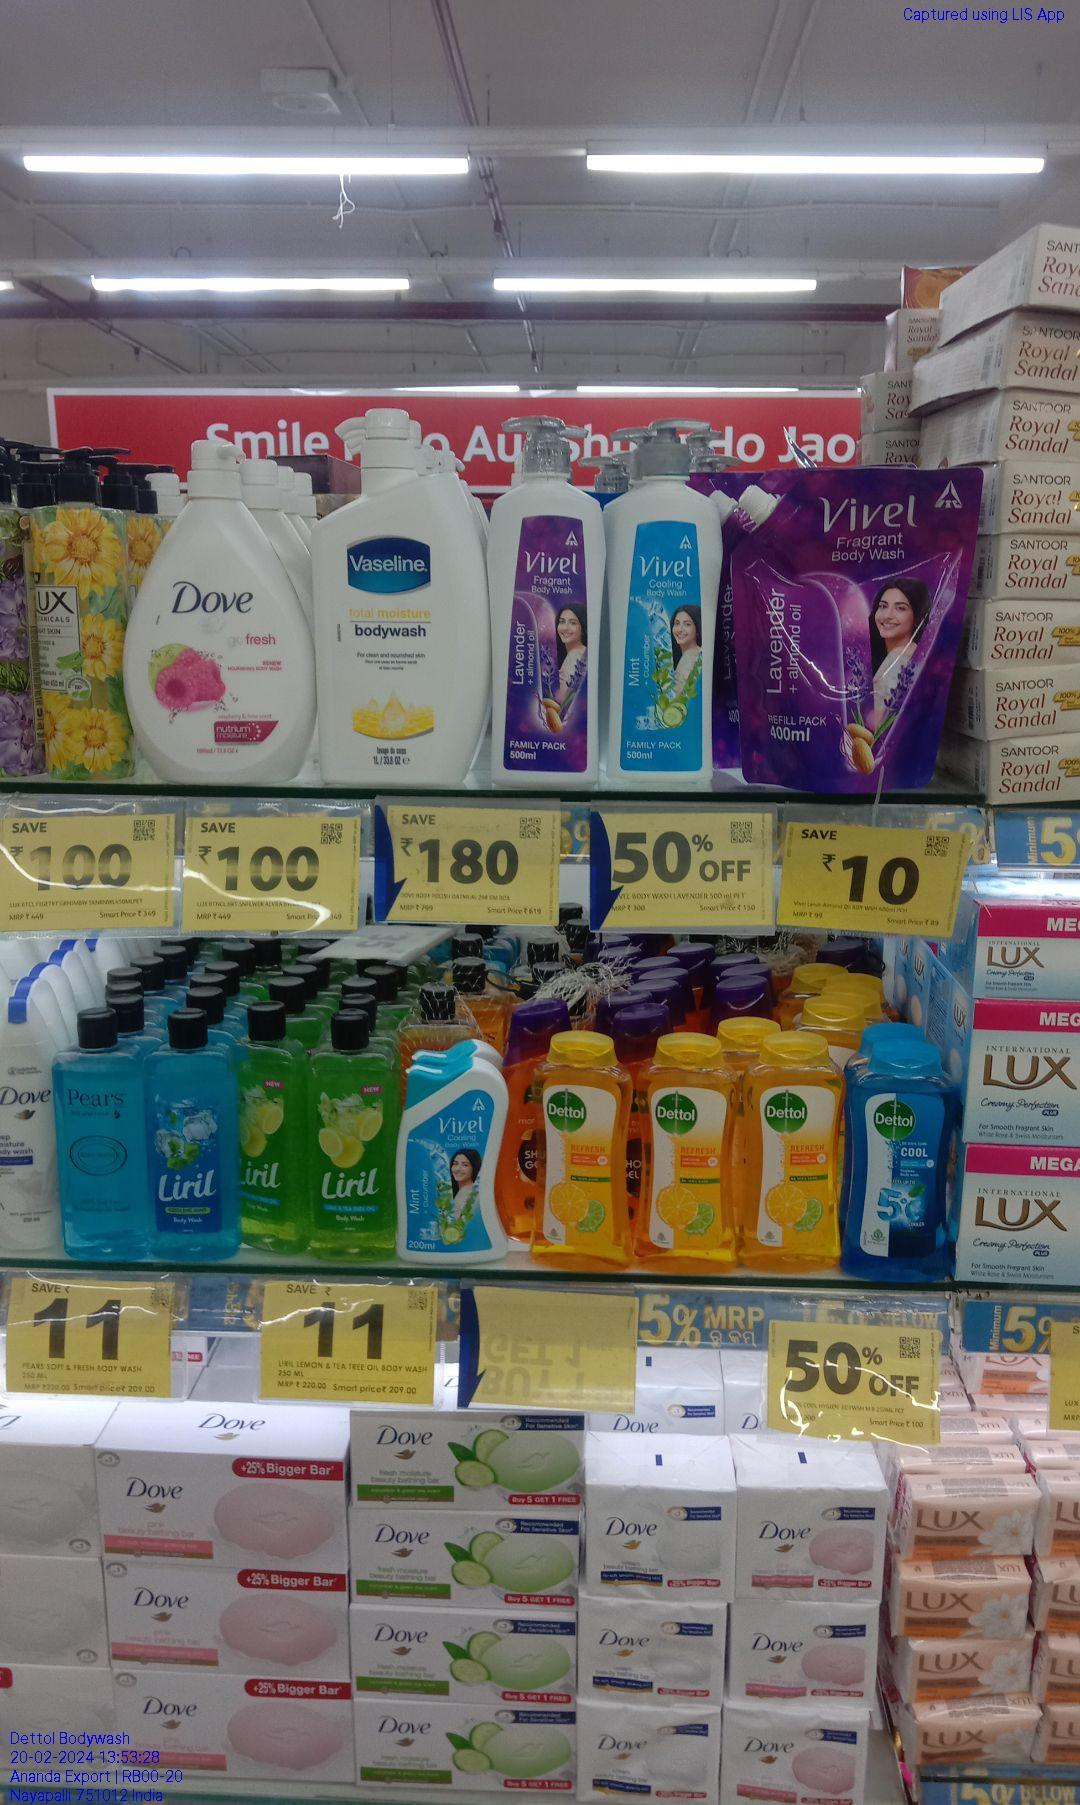Dettol_Bodywash_Cool: (849, 1037, 958, 1277)
Dettol_Bodywash_Refresh: (746, 1025, 842, 1271), (638, 1036, 739, 1270), (534, 1034, 633, 1268)
Dove_Deep_Moisture_Body_Wash_250ML: (0, 994, 62, 1252)
Liril_Cooling_Mint_Body_Wash_250ML: (150, 1010, 239, 1257)
Liril_Lime_and_Tea_Tree_Oil_Body_Wash_250ML: (314, 1001, 396, 1259), (244, 996, 309, 1255)
Pears_Pure_Glycerin_and_Mint_Extracts_Body_Wash_250ML: (66, 1009, 147, 1259)
